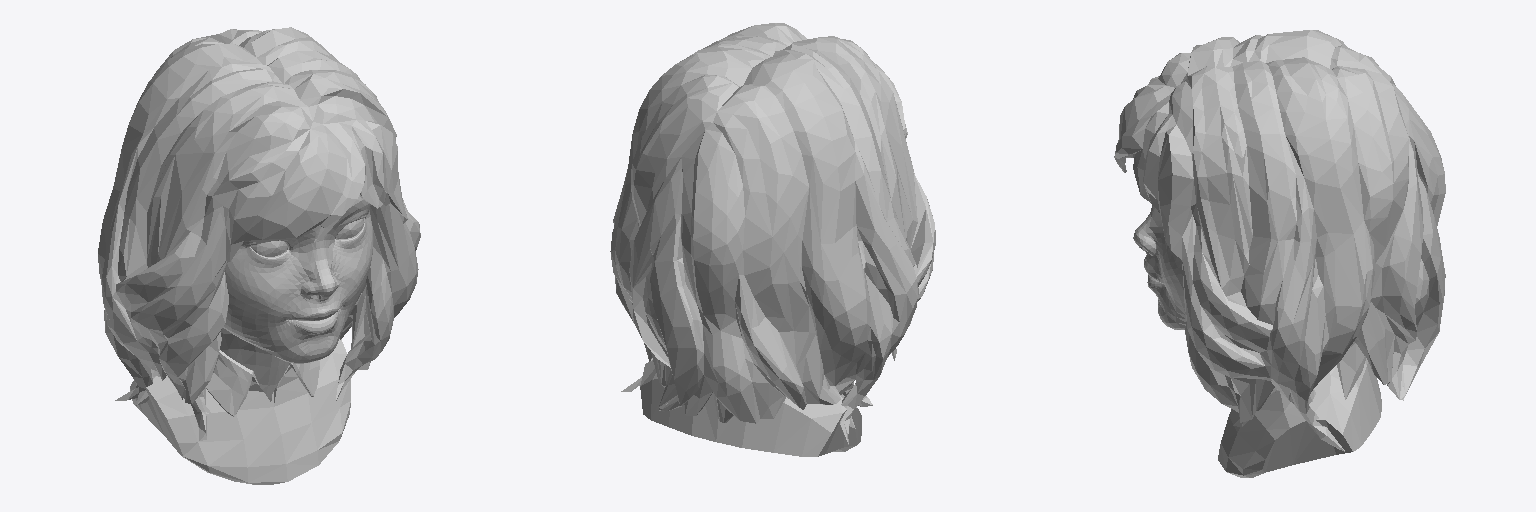
The model's file is model_reply.obj.
3 renders of one model, left to right at view 1: azimuth 30°, elevation 25°; view 2: azimuth 150°, elevation 25°; view 3: azimuth 270°, elevation 25°, orthographic.
Visible parts, largest first — view 1: Wolf3D_Avatar; view 2: Wolf3D_Avatar; view 3: Wolf3D_Avatar.
Part boxes in pixels (bbox=[...]): Wolf3D_Avatar: bbox=[98, 27, 420, 484]; Wolf3D_Avatar: bbox=[610, 23, 935, 456]; Wolf3D_Avatar: bbox=[1114, 30, 1445, 477].
Size of the model in its own units: 0.2775 by 0.3677 by 0.2652.